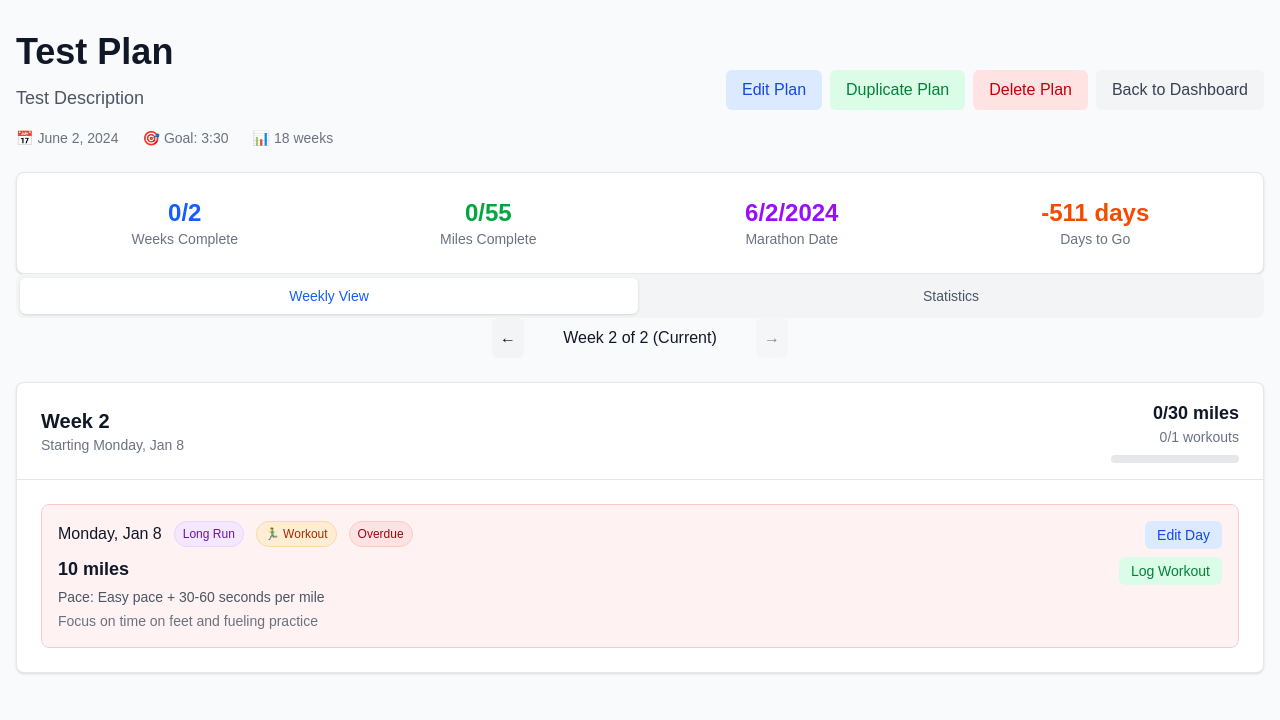
TrainingPlanView › allows switching between view modes
Click the button "Statistics": [951, 296] box [642,278,1260,314]
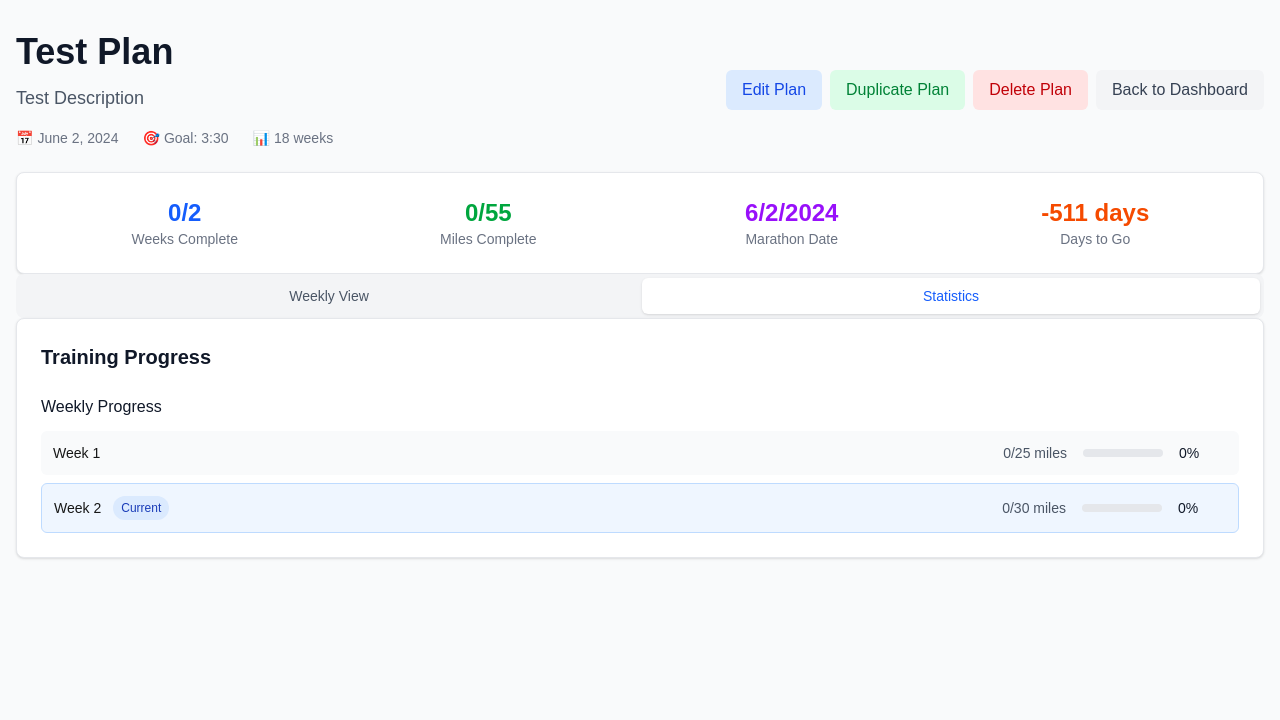
Check: the heading "Training Progress" is shown, box [41,346,211,368]
